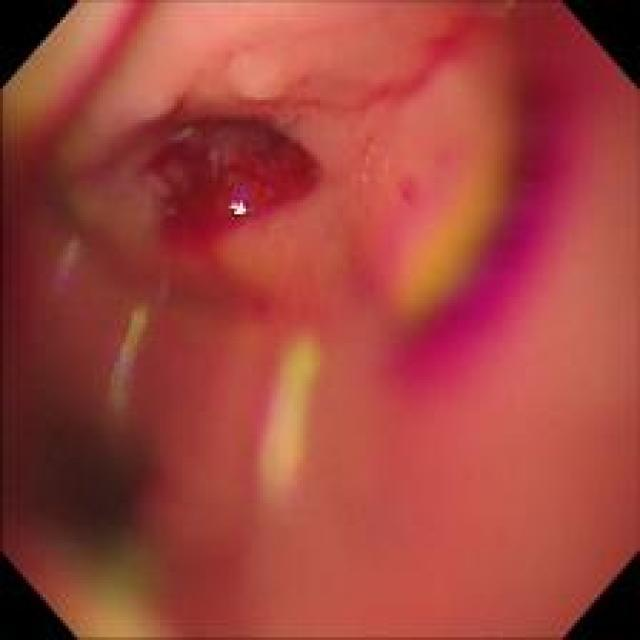blood: (110, 70, 328, 285)
blur: (4, 1, 636, 626)
color misalignment: (405, 11, 594, 411), (4, 365, 180, 636), (9, 9, 135, 135), (251, 321, 320, 504), (106, 289, 162, 430), (44, 221, 84, 300)
specularity: (221, 198, 258, 220)
